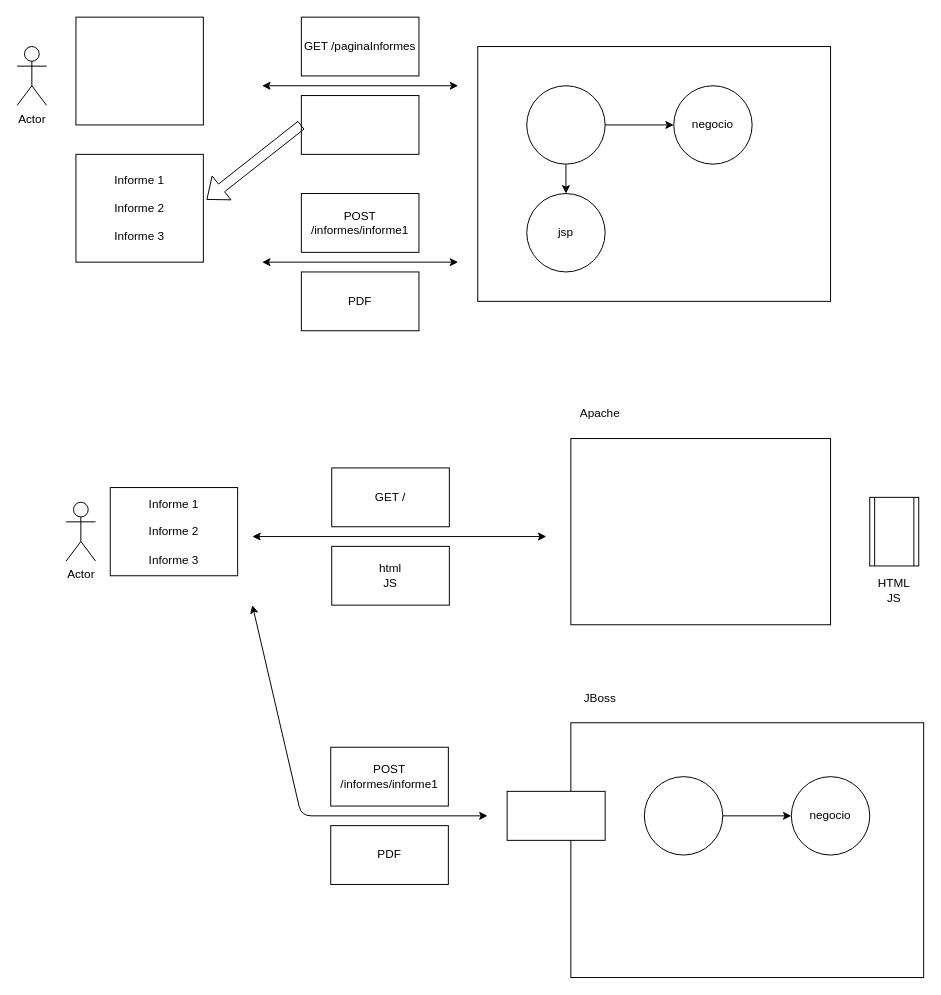
This 941x995 diagram has some shape labels left out. The shapes that lost their labels are listed below. From the top down, each one's box as (x1, y1, x2, y2) in pixels, then its label:
(300, 95, 419, 154): HTML
(526, 85, 605, 164): action
(869, 496, 919, 566): aplicacion angular
(506, 790, 605, 840): REST
(643, 776, 723, 855): endpoint
